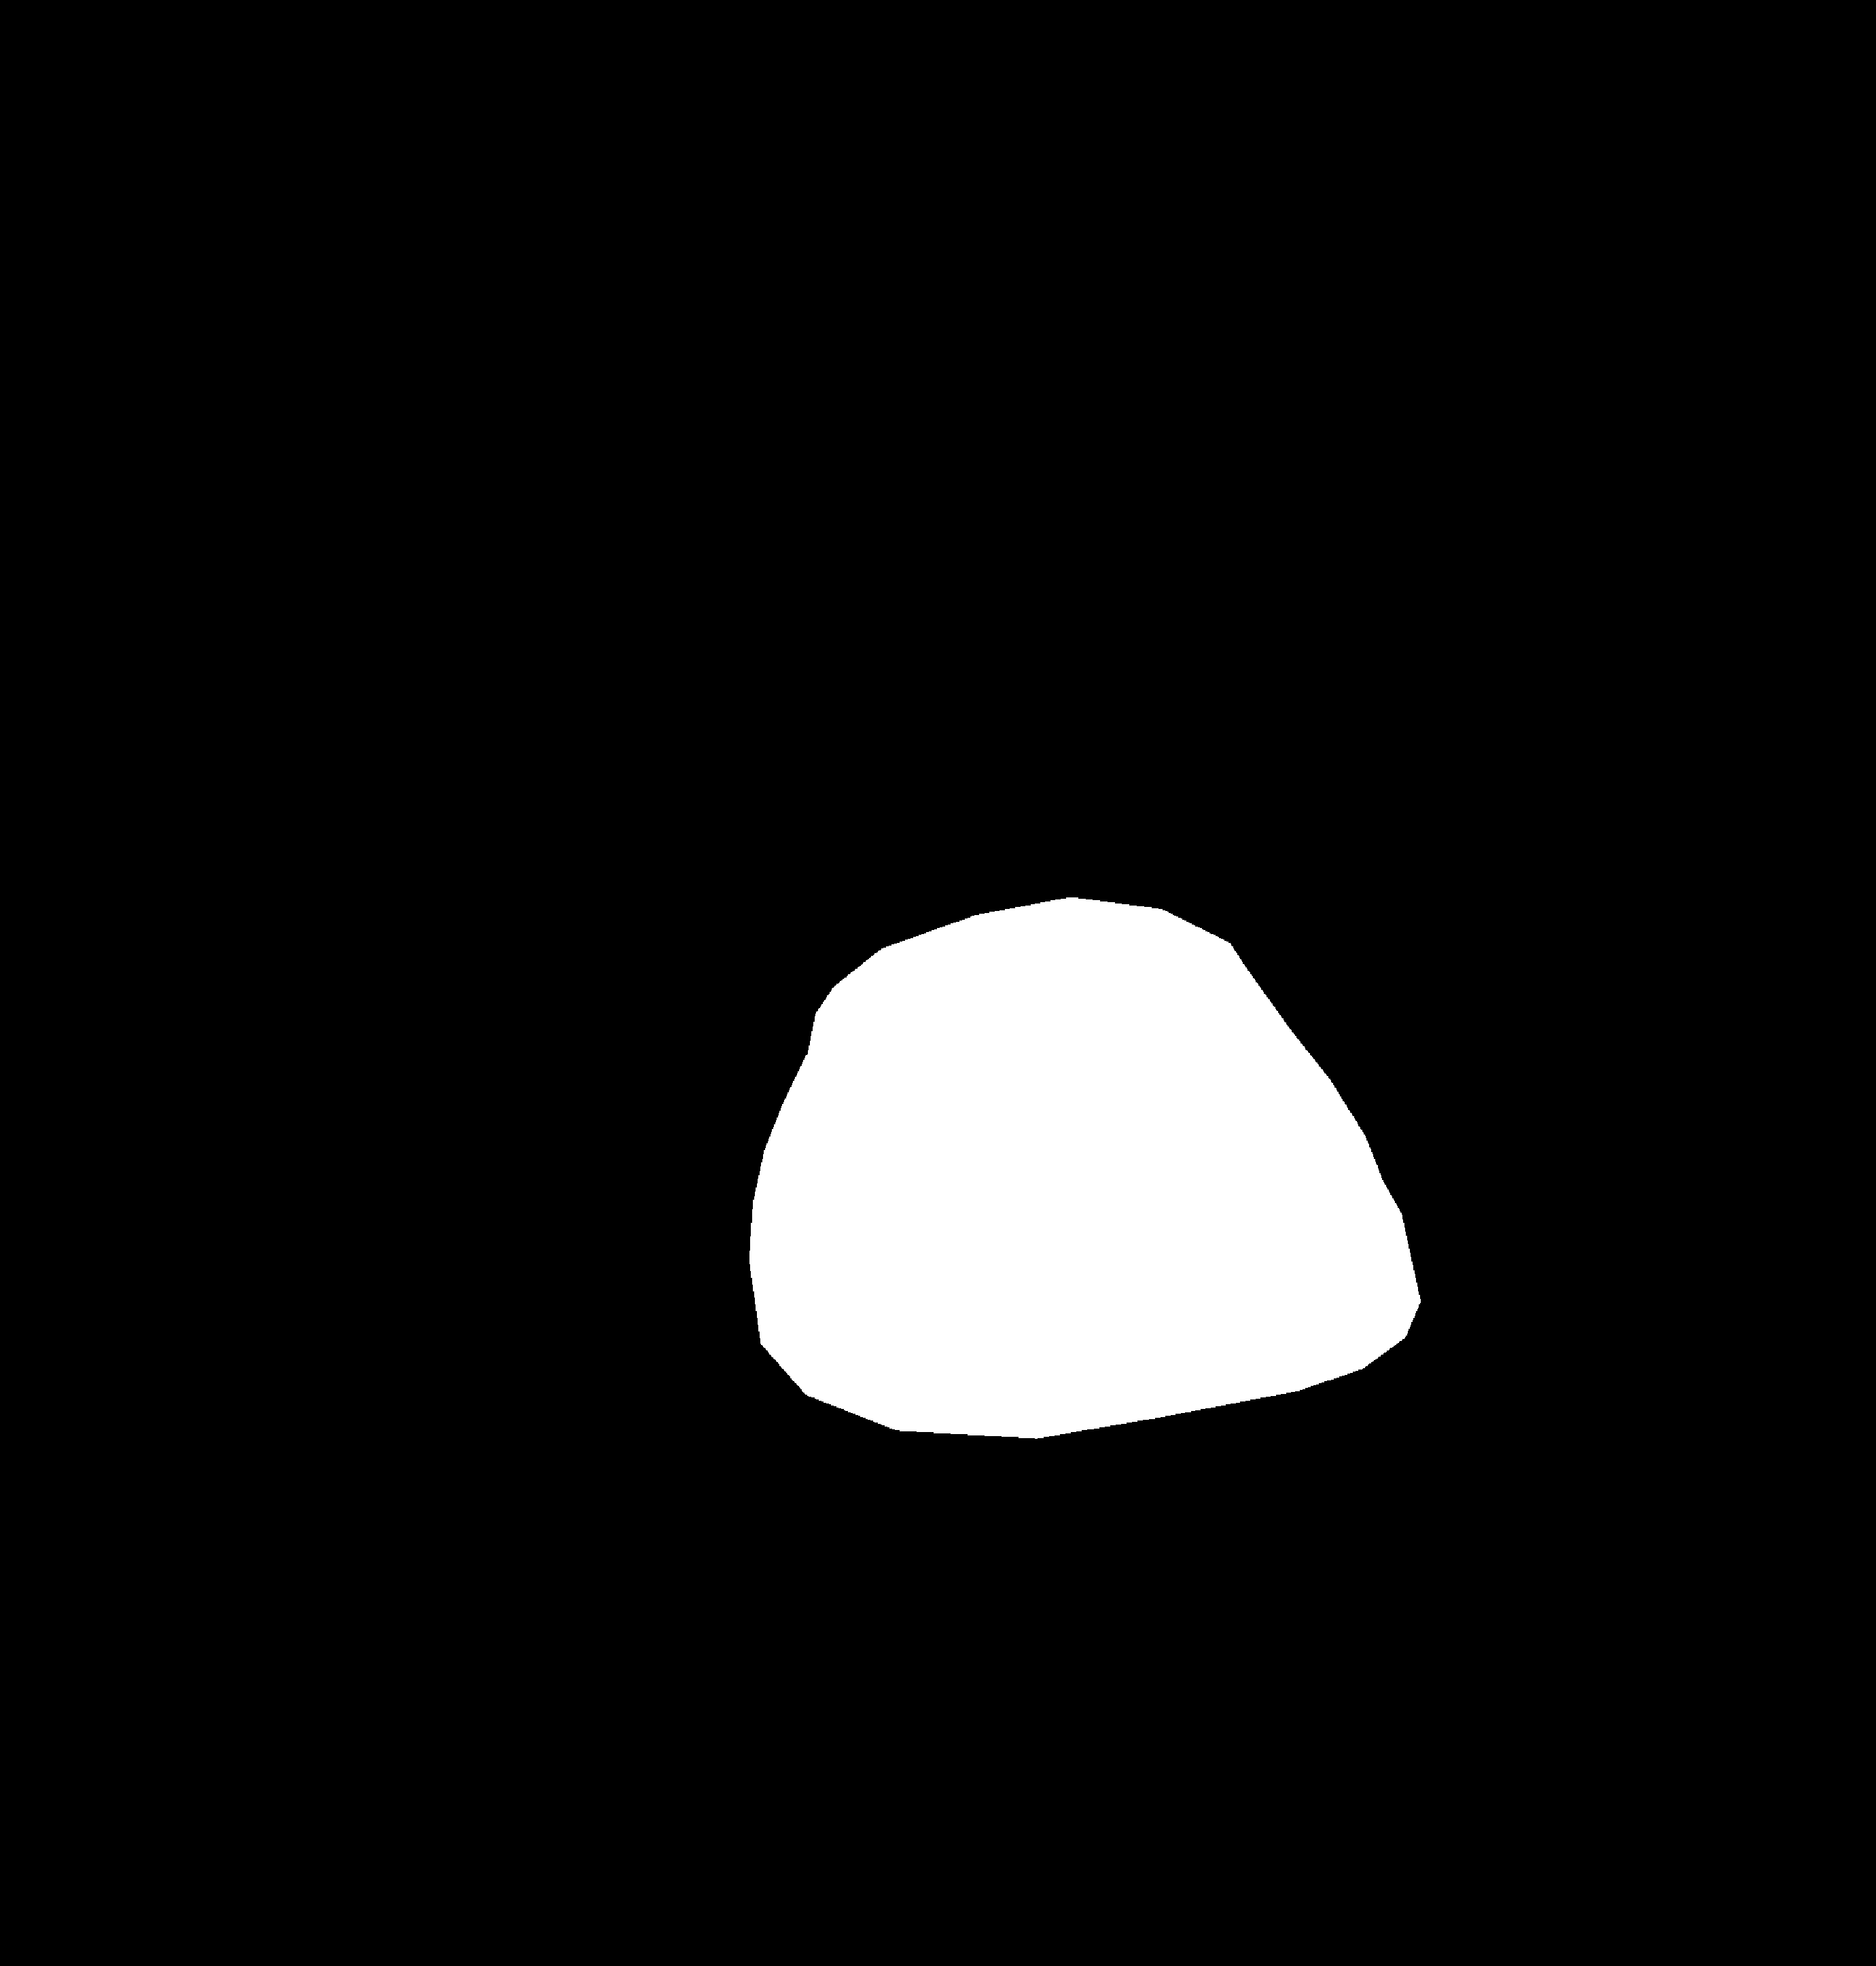heart: (749, 983, 1448, 1431)
left_lung: (191, 274, 867, 1636)
right_lung: (1046, 277, 1725, 1594)
